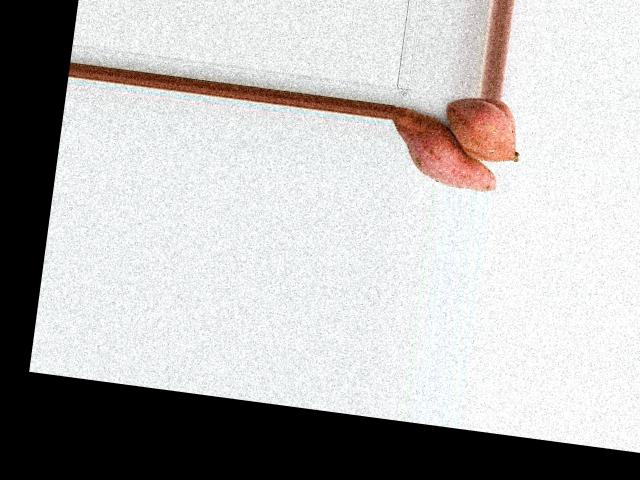sweet_potato: (445, 101, 526, 160)
